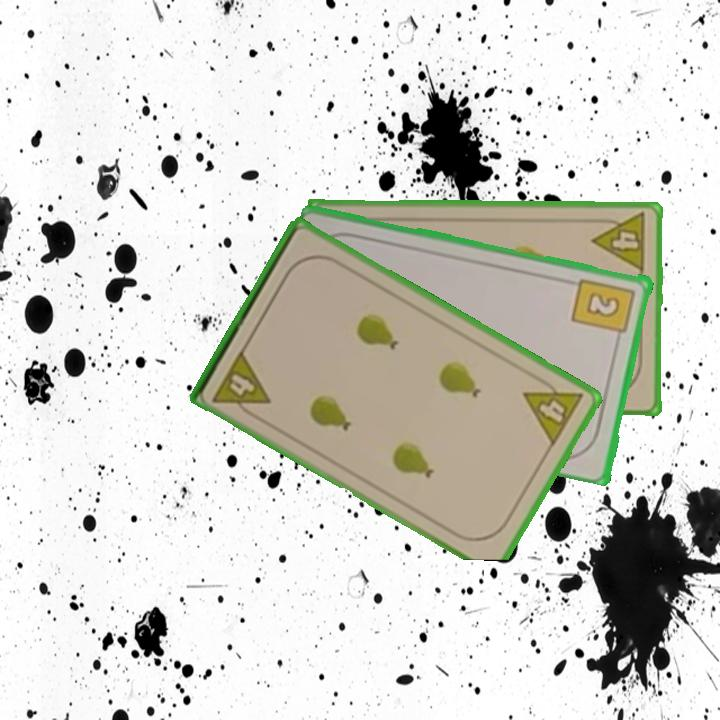2b: (569, 274, 638, 345)
4p: (520, 370, 586, 449), (208, 346, 274, 423), (589, 210, 649, 275)
